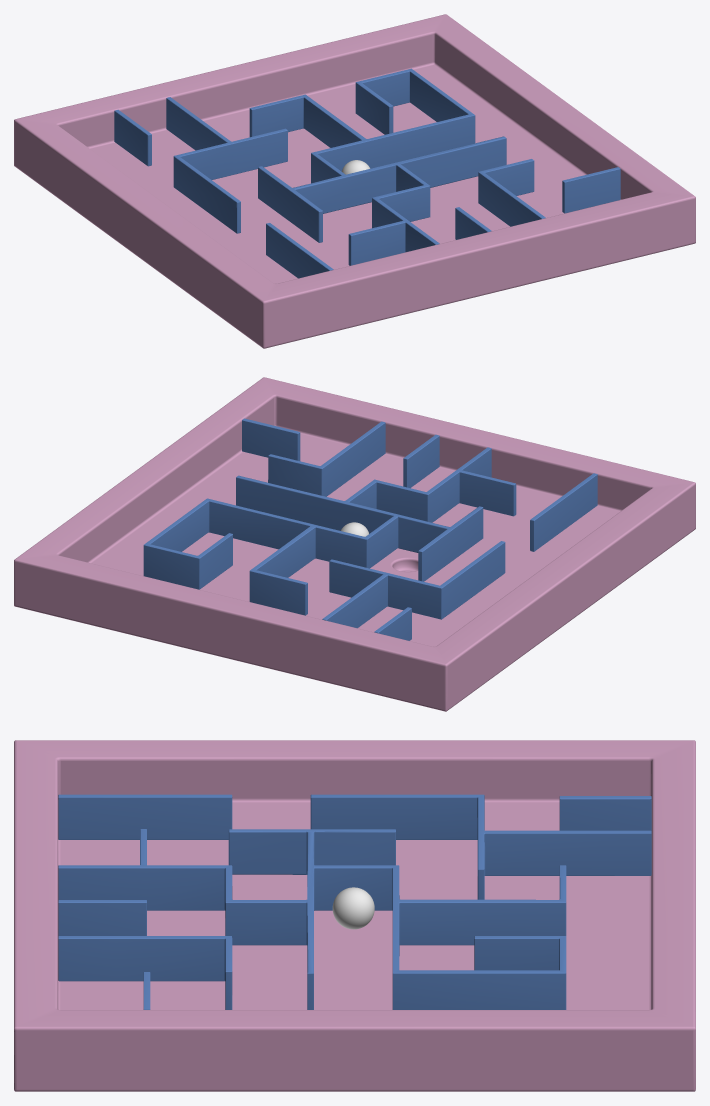
File: day01_maze.fbx
3 renders of one model, top to bottom at view 1: azimuth 30°, elevation 25°; view 2: azimuth 150°, elevation 25°; view 3: azimuth 270°, elevation 25°, orthographic. The views are drawn at different scales.
Visible parts, largest first — view 1: Boundary, Walls; view 2: Boundary, Walls; view 3: Boundary, Walls, Sphere.
Part boxes in pixels (x1,y1,x2,y2): Boundary: [14, 14, 695, 348]; Walls: [114, 68, 620, 278]; Boundary: [14, 377, 695, 711]; Walls: [143, 418, 597, 640]; Boundary: [14, 740, 695, 1091]; Walls: [58, 794, 651, 1009]; Sphere: [332, 887, 374, 929].
Bounding box in the file's own units: 200 × 20.9 × 200.
